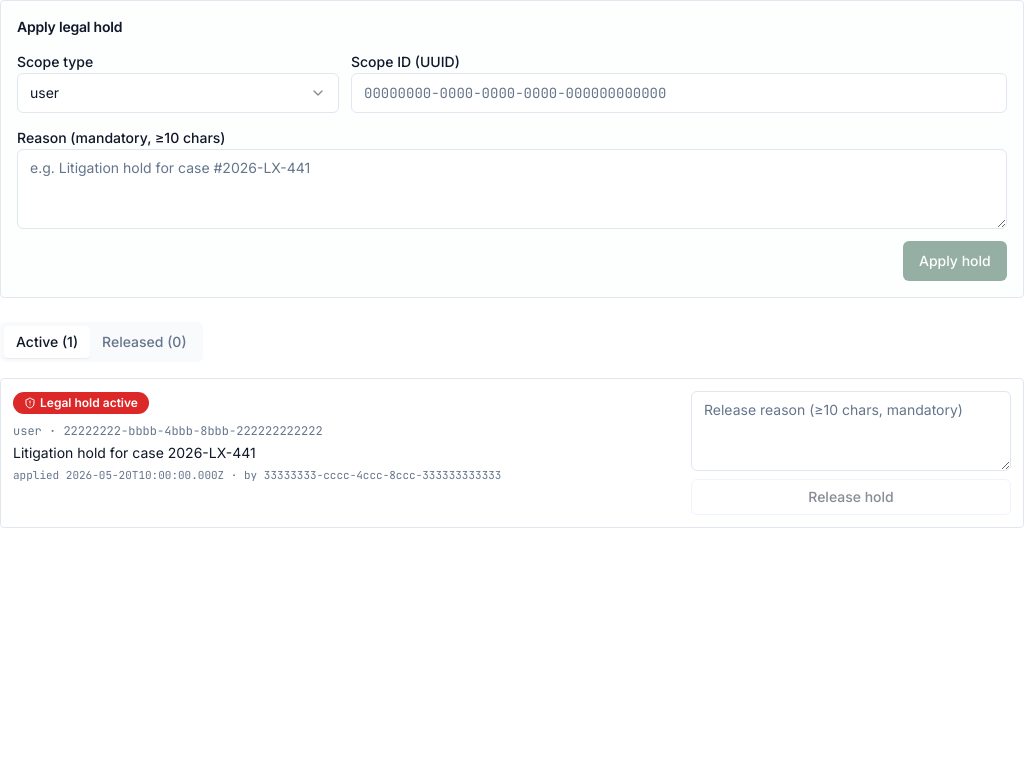
it: AdminLegalHoldsPanel — release validation + invoke contract › release button is disabled until release reason ≥ 10 chars
The width and height of the screenshot is (1024, 768).
Expected: the button "Release hold" is disabled, [691,479,1011,515]
Type "short" into the text box with placeholder "Release reason (≥10 chars, mandatory)". click: (851, 431)
box: [691,391,1011,471]
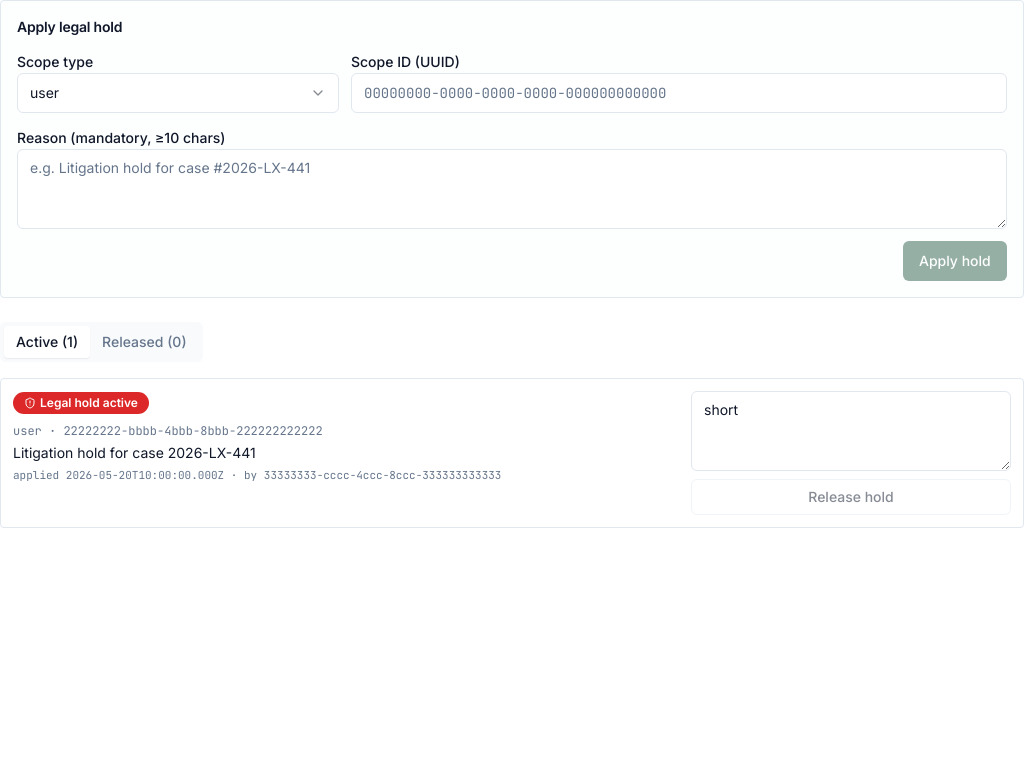
Expected: the button "Release hold" is disabled, [691,479,1011,515]
Replace the text in the text box with placeholder "Release reason (≥10 chars, mandatory)" with "Case closed; hold lifted by counsel". click: (851, 431)
box: [691,391,1011,471]
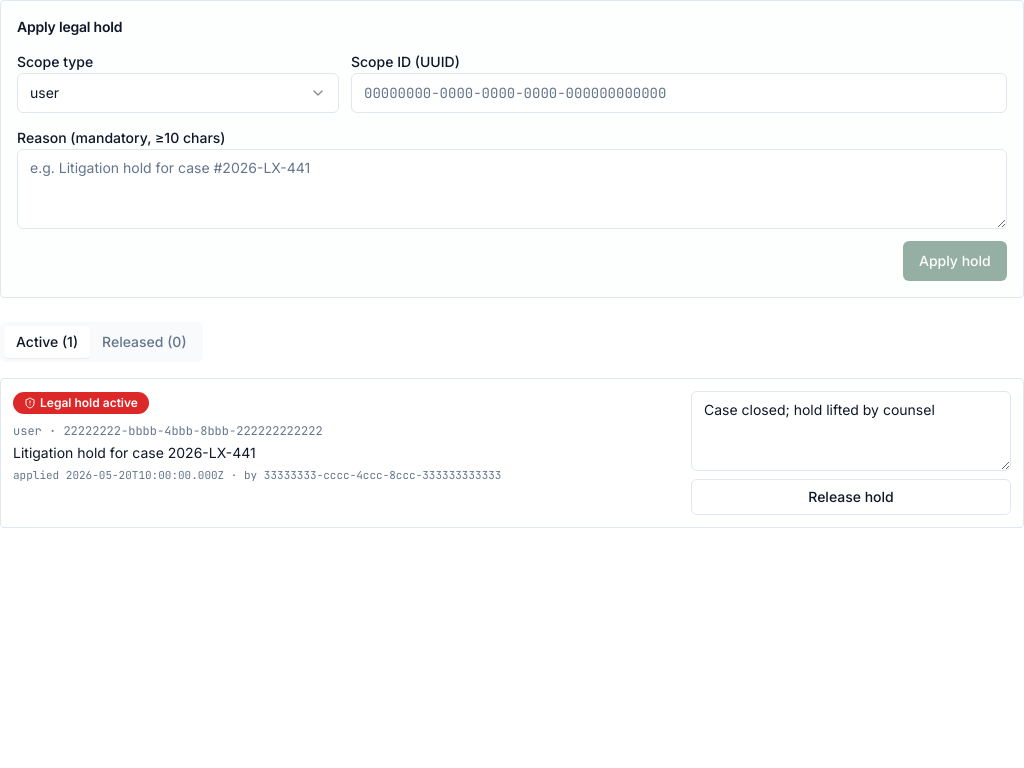
Now the button "Release hold" is enabled, box [691,479,1011,515]
